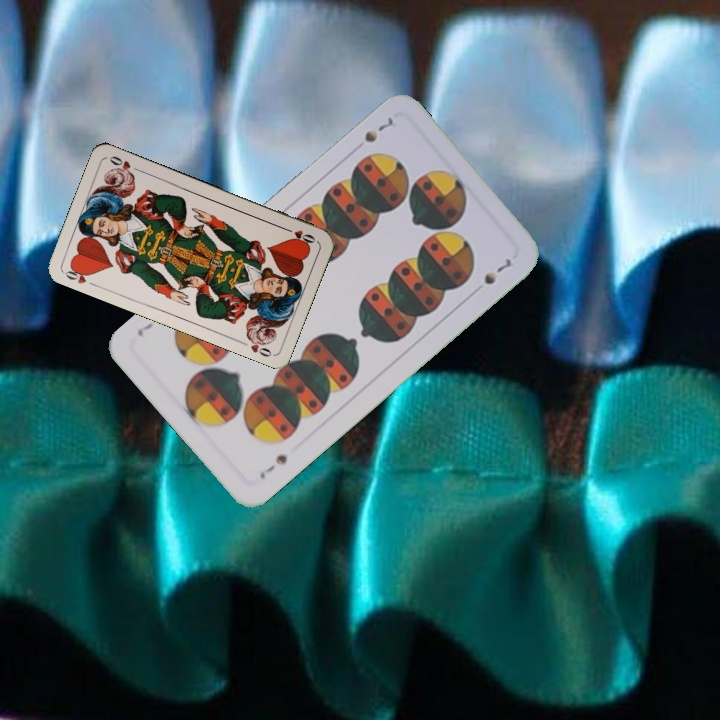HO: (280, 224, 318, 247), (60, 262, 94, 287)
S7: (360, 112, 396, 146), (255, 450, 290, 482)
